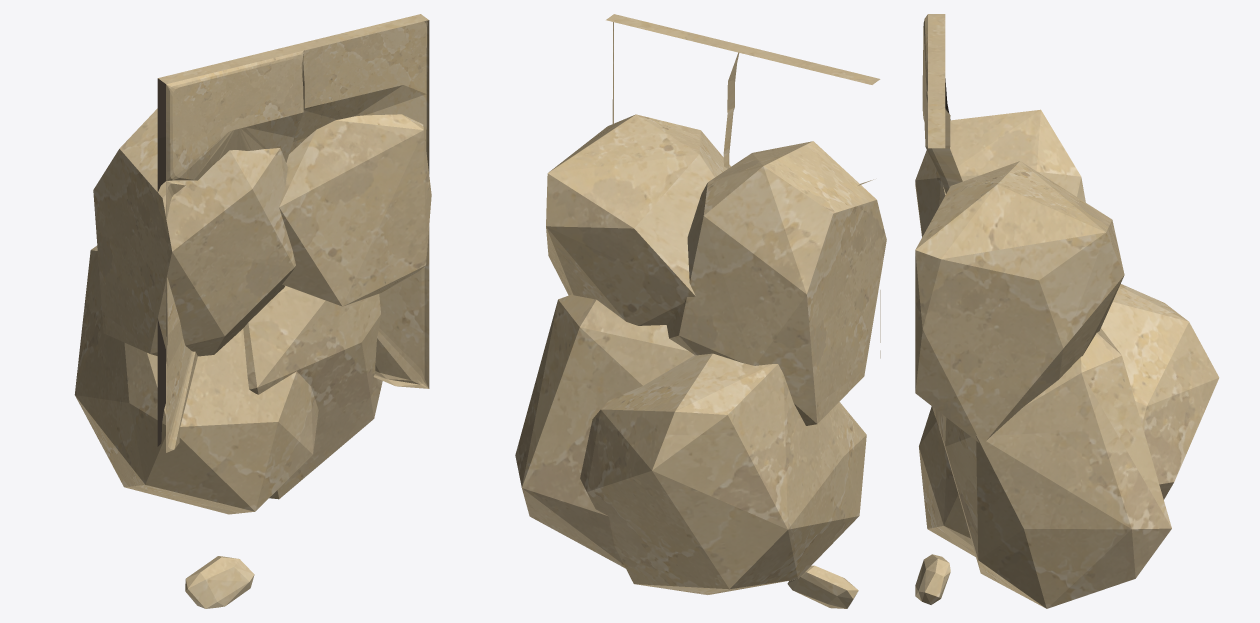
File: ground_bottom_square_edge_04.glb
3 views of the same model, side by side, from view 1: azimuth 30°, elevation 25°; view 2: azimuth 150°, elevation 25°; view 3: azimuth 270°, elevation 25° (orthographic). The views are drawn at different scales.
Visible parts, largest first — view 1: GroundBottomSquareEdge04_Body; view 2: GroundBottomSquareEdge04_Body; view 3: GroundBottomSquareEdge04_Body.
Boxes of the visible parts, <box> form: GroundBottomSquareEdge04_Body: <box>74,14,431,608</box>; GroundBottomSquareEdge04_Body: <box>515,14,886,608</box>; GroundBottomSquareEdge04_Body: <box>915,14,1219,608</box>.
Size of the model in its own units: 1 by 1.94 by 1.04.
6 materials, 5 textured.
